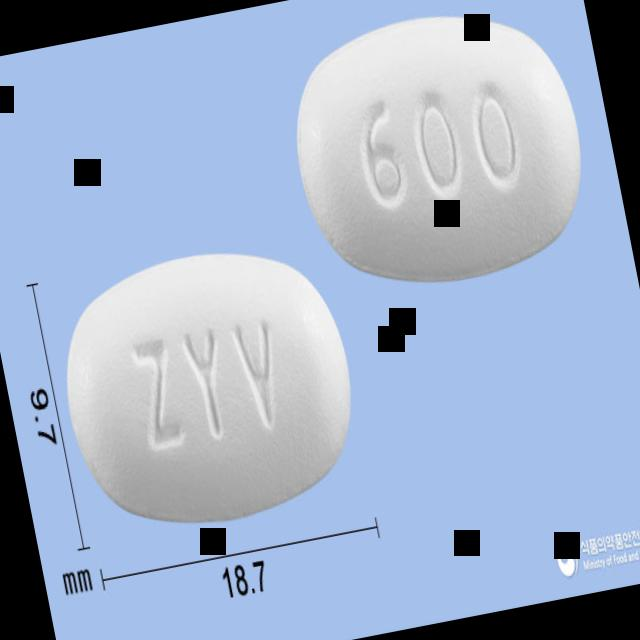Clarix: (46, 226, 374, 546), (275, 0, 603, 308)
